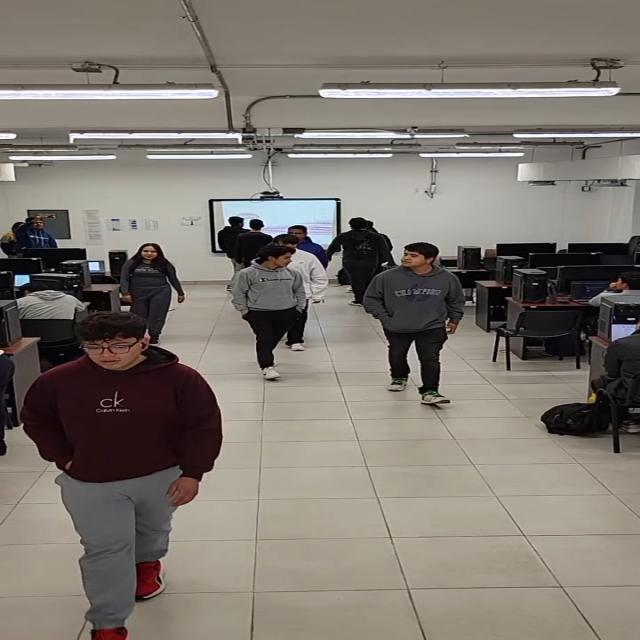Persona: (32, 310, 215, 640), (369, 242, 469, 414), (228, 242, 312, 387), (121, 240, 180, 348), (332, 216, 381, 302)
